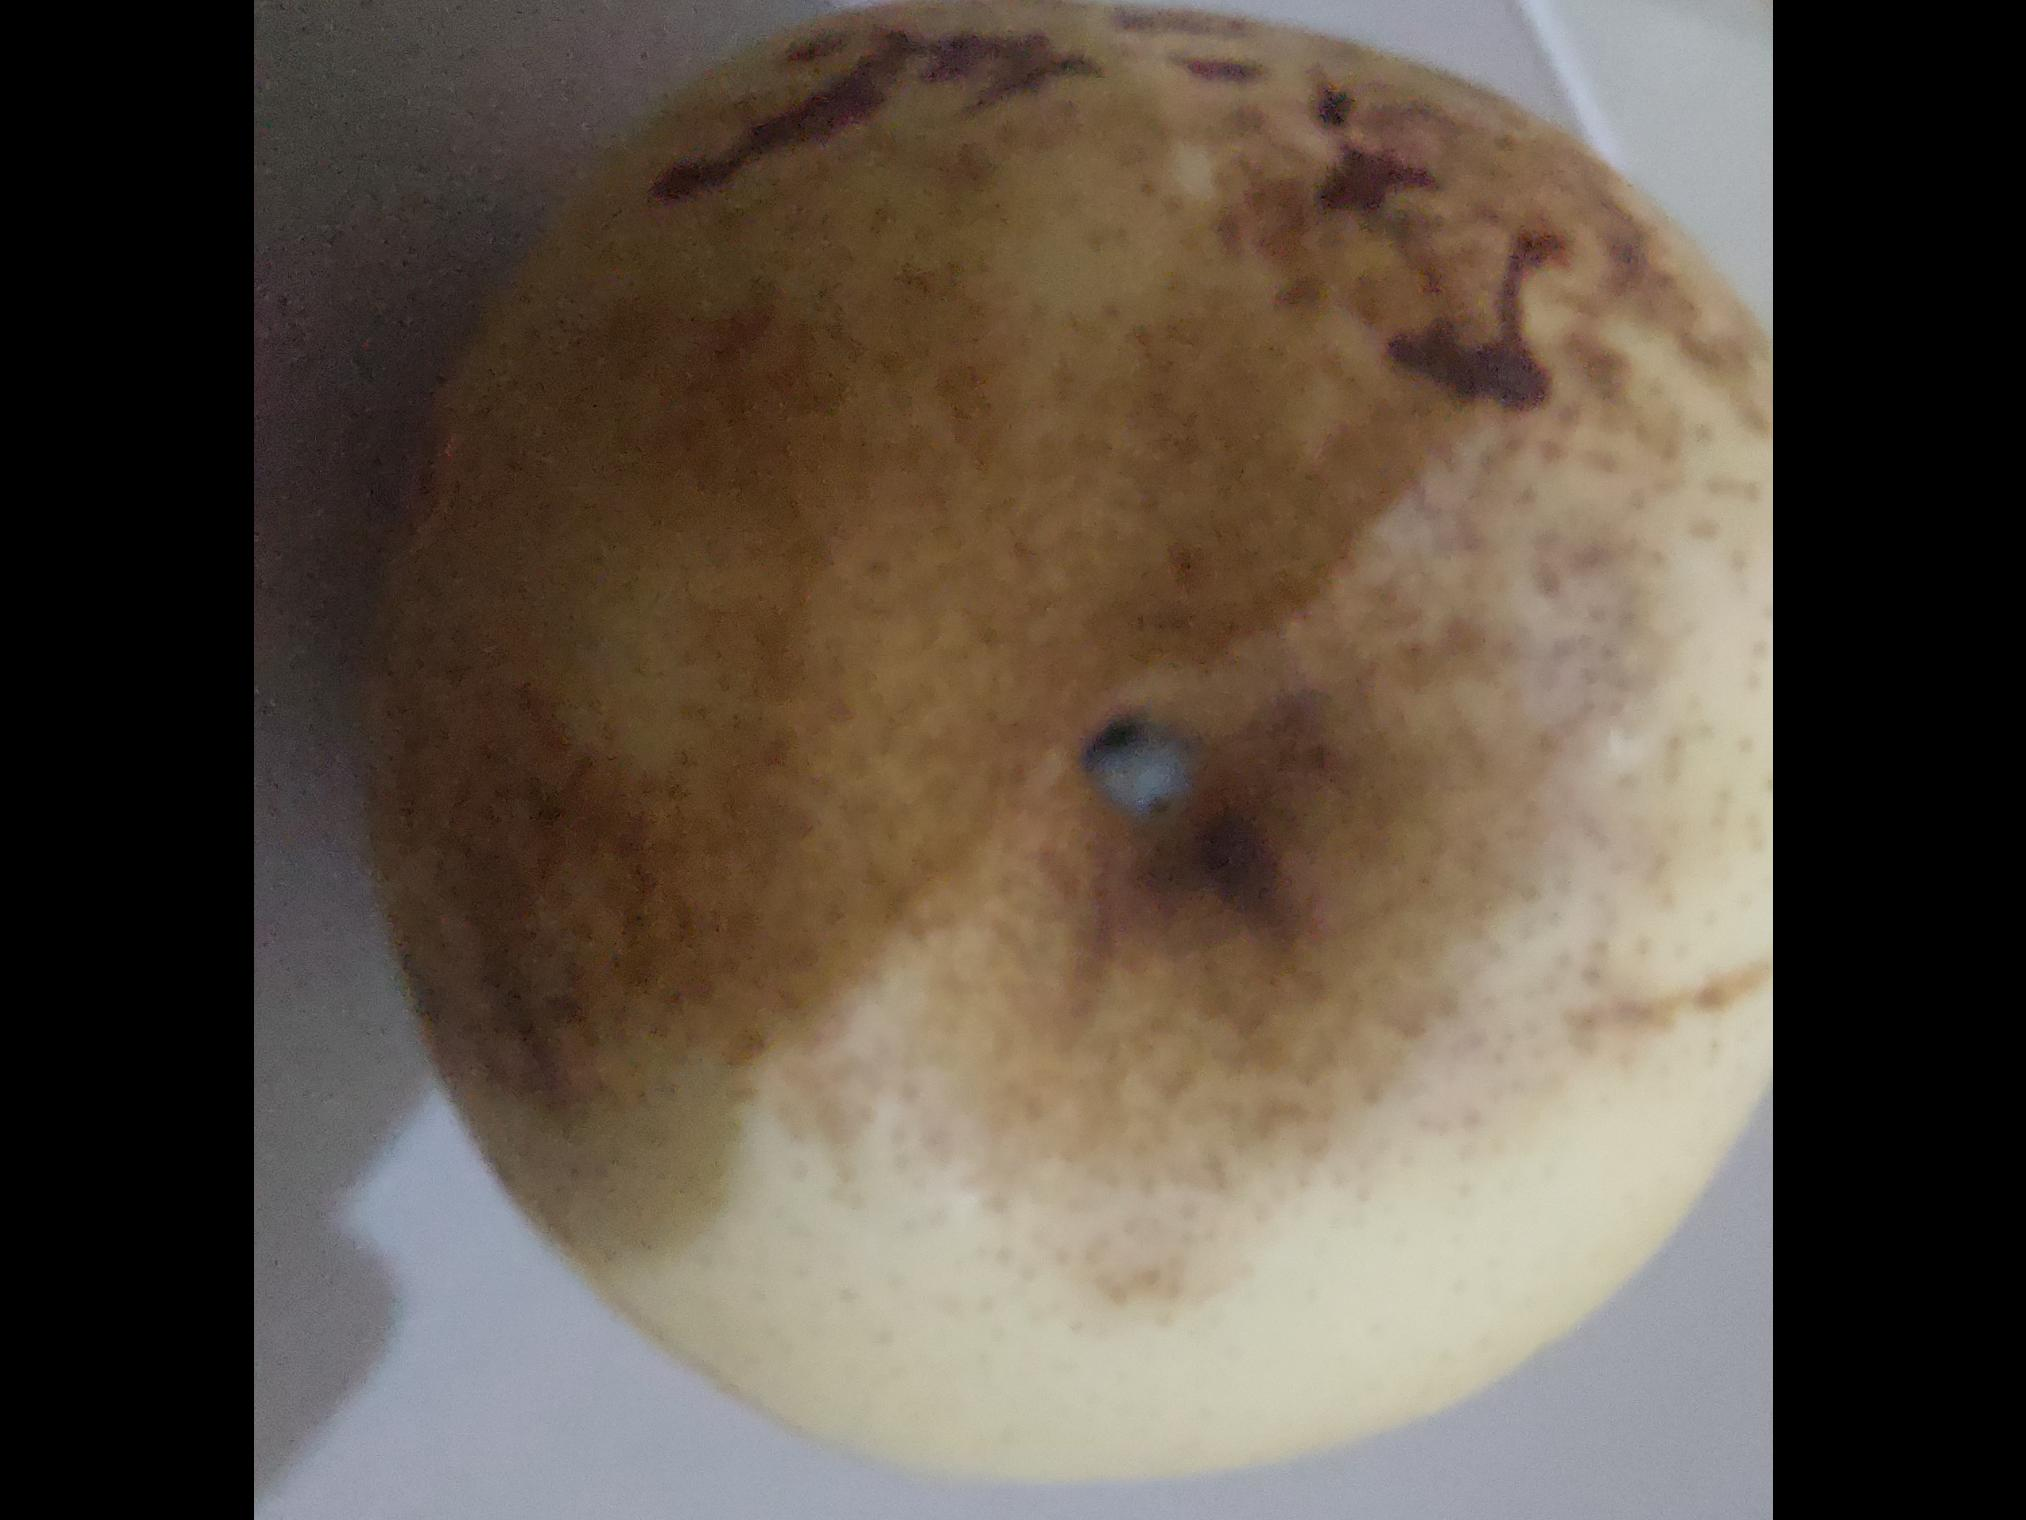Bad Pear: (377, 0, 1774, 1507)
